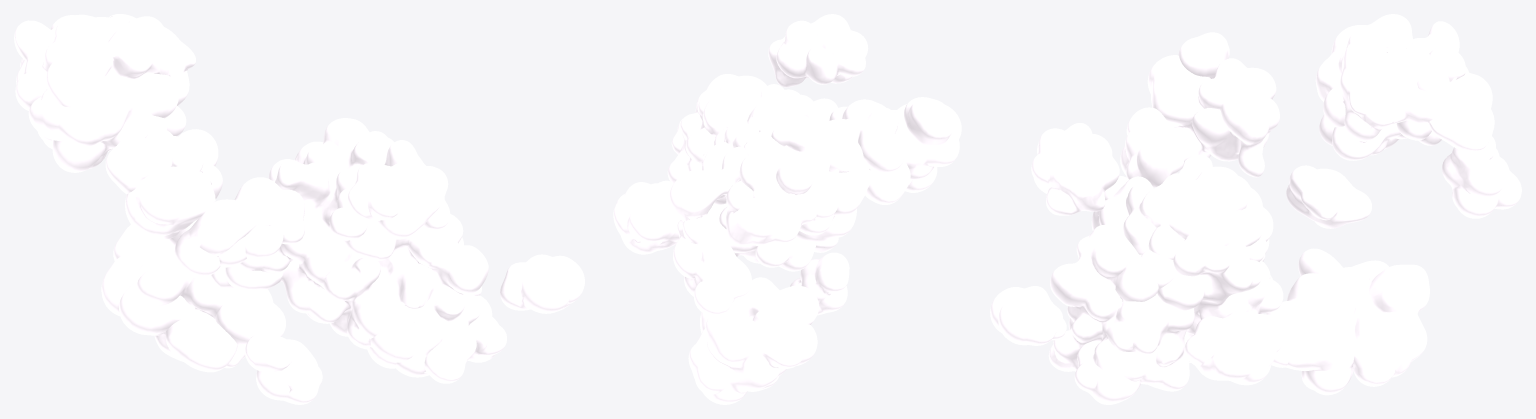
File: cloud.gltf
3 views of the same model, side by side, from view 1: azimuth 30°, elevation 25°; view 2: azimuth 150°, elevation 25°; view 3: azimuth 270°, elevation 25° (orthographic). The views are drawn at different scales.
Parts seen in each view (by area): view 1: base1; view 2: base1; view 3: base1.
Part boxes in pixels (x1,y1,x2,y2): base1: [14, 14, 584, 404]; base1: [613, 14, 961, 404]; base1: [990, 14, 1521, 404].
Size of the model in its own units: 15.4 by 13.69 by 20.29.
1 material, 1 textured.
